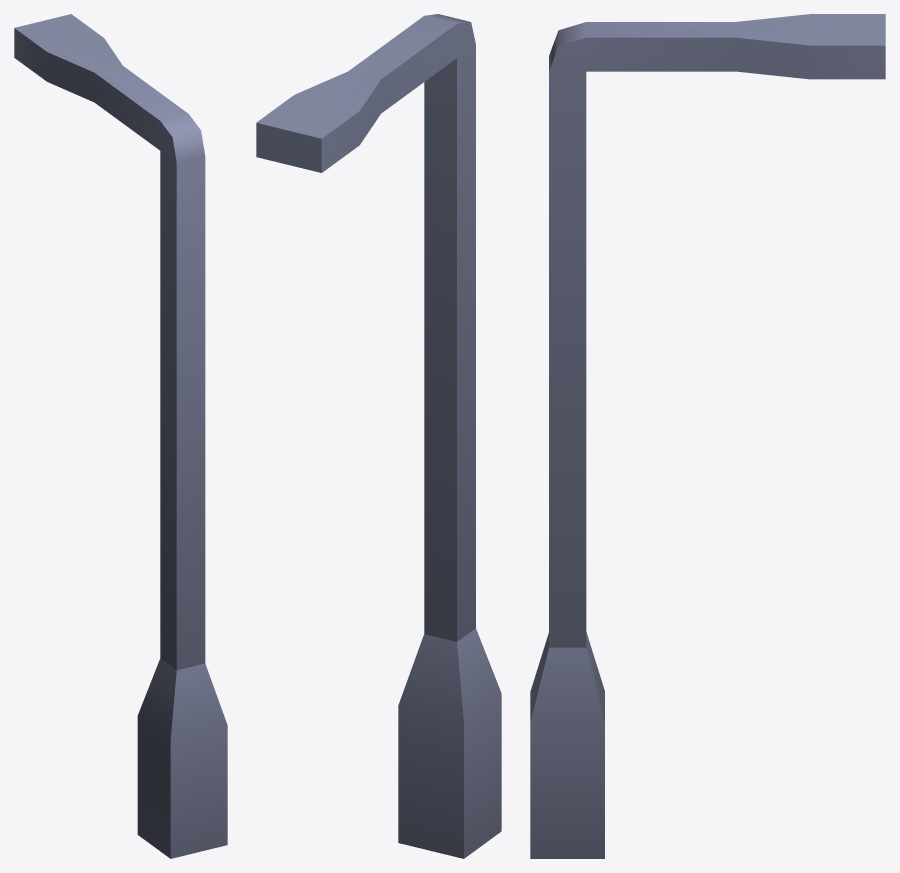
Rendered from street_lamp.glb.
The picture shows the model from 3 angles, left to right: view 1: azimuth 30°, elevation 25°; view 2: azimuth 150°, elevation 25°; view 3: azimuth 270°, elevation 25°; orthographic projection. The views are drawn at different scales.
Parts seen in each view (by area): view 1: light-square; view 2: light-square; view 3: light-square.
Boxes of the visible parts, x1=… form: light-square: x1=14, y1=14, x2=227, y2=858; light-square: x1=256, y1=14, x2=501, y2=858; light-square: x1=530, y1=14, x2=885, y2=858.
Size of the model in its own units: 0.05 by 0.6 by 0.2375.
1 material, 1 textured.
